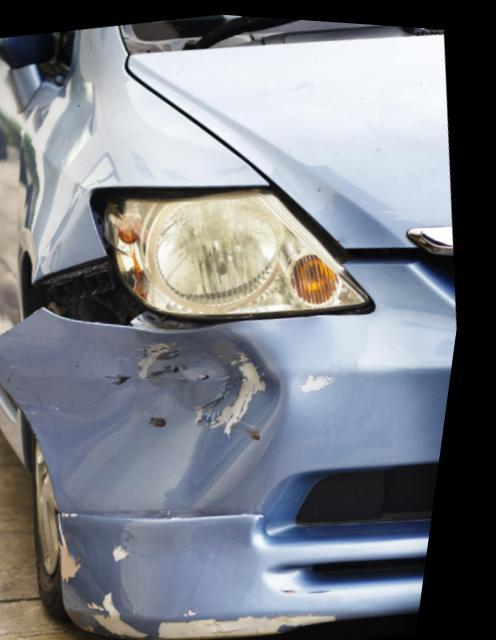dent: (105, 323, 294, 505)
dislocated part: (0, 249, 465, 635)
scratch: (78, 534, 356, 638)
